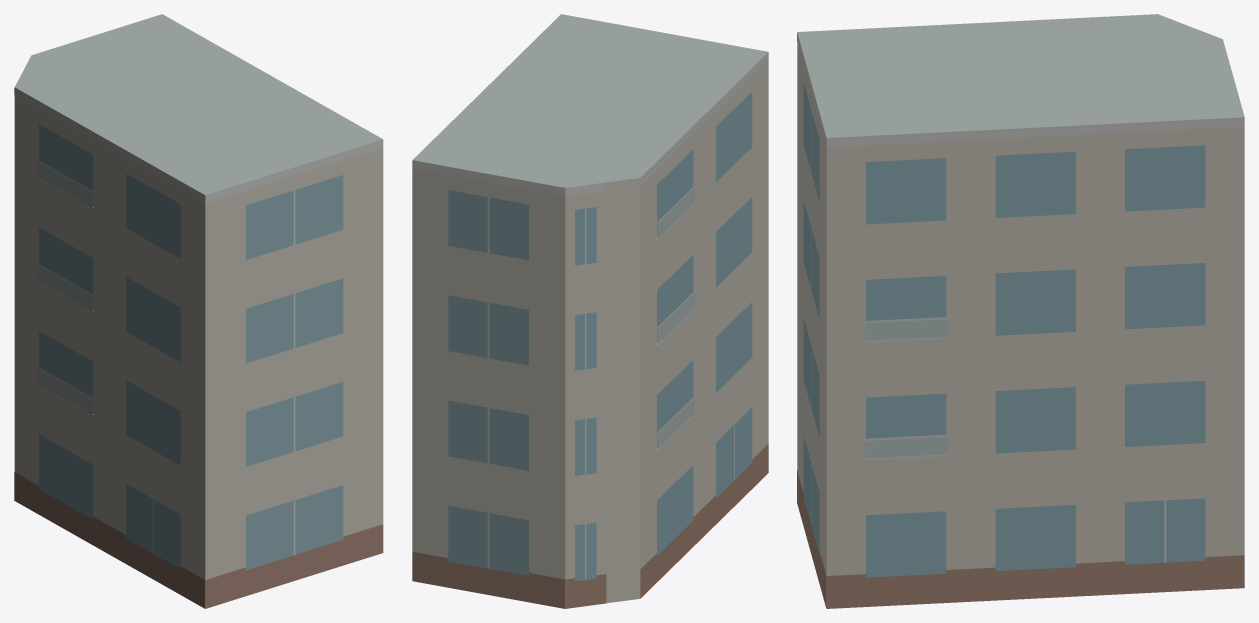
File: residential-8448234d-8f7c-4f89-bc7e-c5c38895fe83.glb
3 views of the same model, side by side, from view 1: azimuth 30°, elevation 25°; view 2: azimuth 150°, elevation 25°; view 3: azimuth 270°, elevation 25° (orthographic). The views are drawn at different scales.
Parts seen in each view (by area): view 1: residential-8448234d-8f7c-4f89-bc7e-c5c38895fe83.tmp; view 2: residential-8448234d-8f7c-4f89-bc7e-c5c38895fe83.tmp; view 3: residential-8448234d-8f7c-4f89-bc7e-c5c38895fe83.tmp.
Part boxes in pixels (x1,y1,x2,y2): residential-8448234d-8f7c-4f89-bc7e-c5c38895fe83.tmp: (14,14,383,608); residential-8448234d-8f7c-4f89-bc7e-c5c38895fe83.tmp: (412,14,768,608); residential-8448234d-8f7c-4f89-bc7e-c5c38895fe83.tmp: (797,14,1244,608).
Size of the model in its own units: 6.9 by 12.2 by 10.52.
